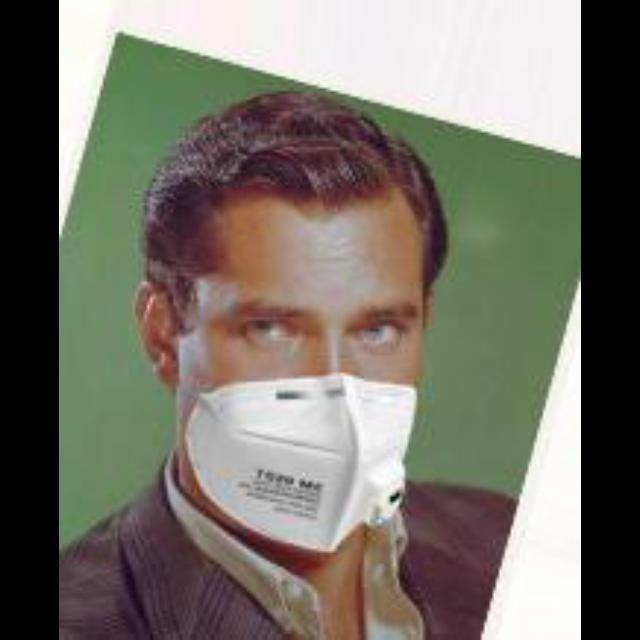suspicion: (99, 59, 492, 531)
